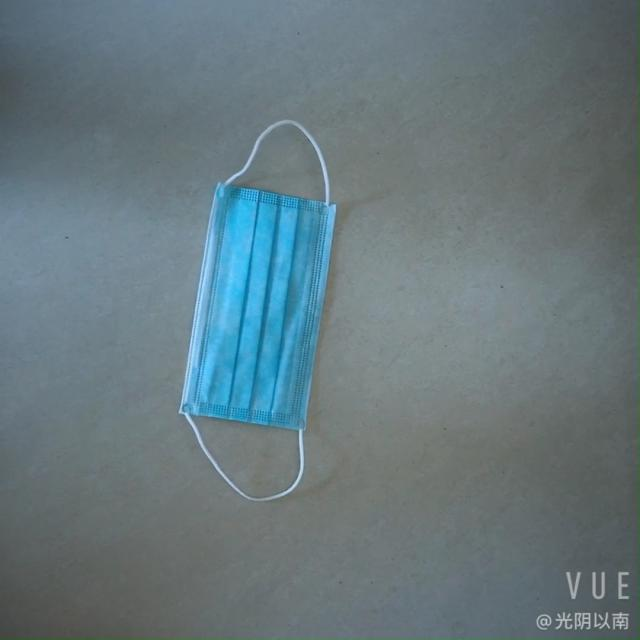non-organic waste: (159, 183, 357, 447)
